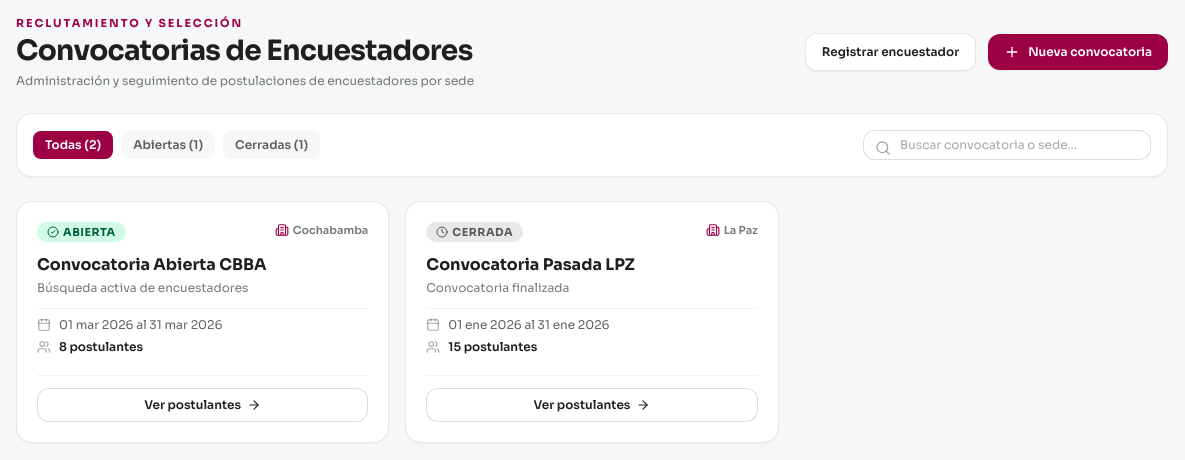
ConvocatoriasPage (US51 — Listado de convocatorias) › filtra convocatorias por estado (abiertas / cerradas)
Expected: the heading "Convocatoria Abierta CBBA" is shown, [37,254,266,275]
Click the button "Abiertas (1)" at [168, 145], box [121,131,215,159]
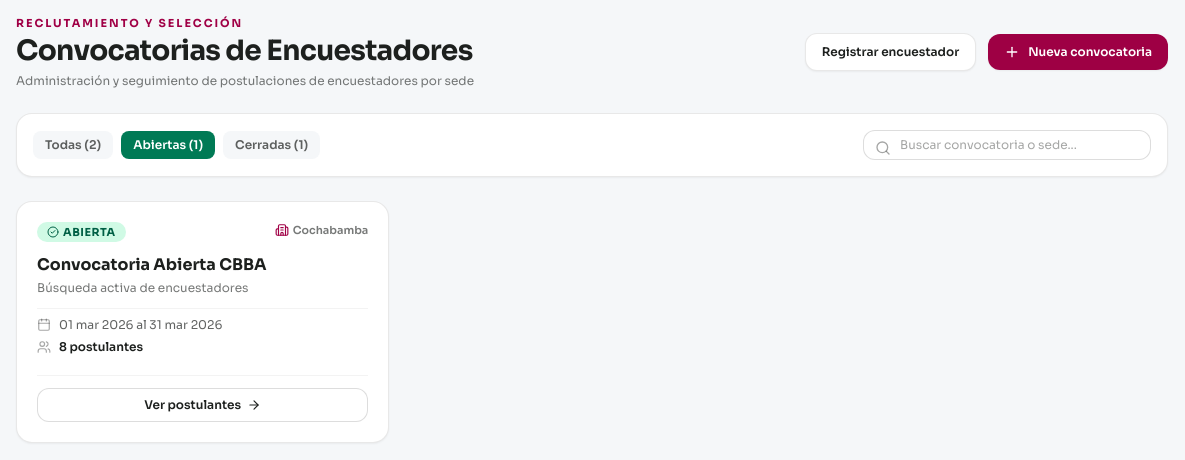
Expected: the heading "Convocatoria Abierta CBBA" is shown, [37,254,266,275]
Expected: the heading "Convocatoria Pasada LPZ" is gone
Click the button "Cerradas (1)" at [272, 145], box [223,131,320,159]
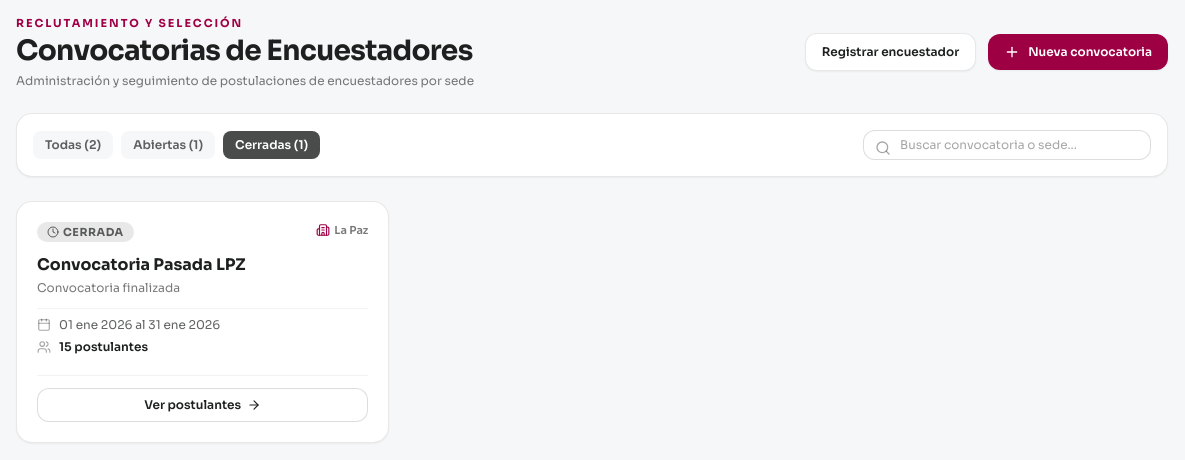
Expected: the heading "Convocatoria Abierta CBBA" is gone
Expected: the heading "Convocatoria Pasada LPZ" is shown, [37,254,246,275]
